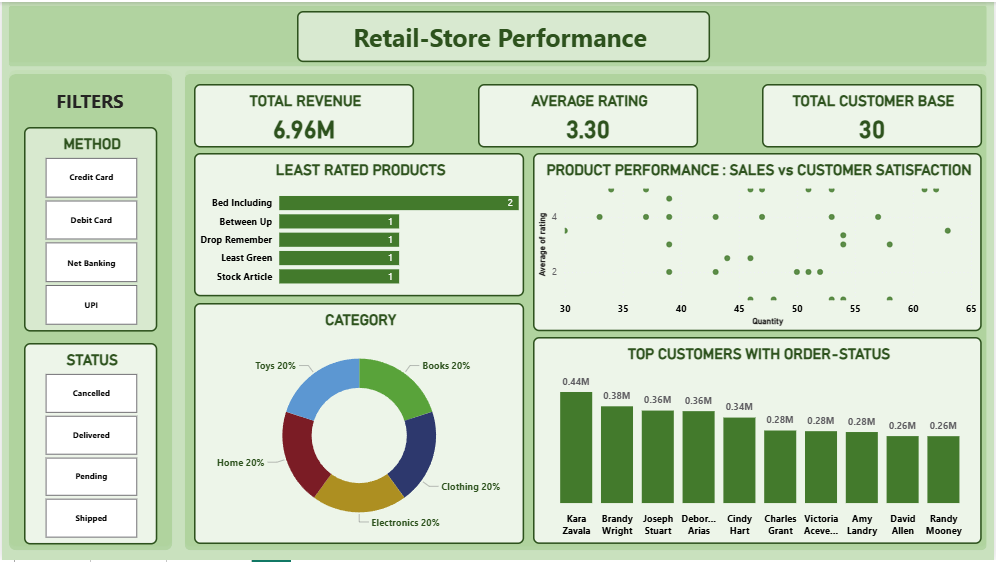

This screenshot's page, from the dashboard's own definition file:
{"tool":"powerbi","page":{"name":"Page 1","canvas":[1280,720],"ordinal":0},"visuals":[{"type":"shape","box":[3.6,0,1271.8,88.2],"z":0},{"type":"shape","box":[230.9,88.2,1044.5,624.5],"z":0,"group":"g2"},{"type":"textbox","box":[380.6,11.6,532.9,65.8],"z":1000},{"type":"shape","box":[3.6,88.2,220.9,624.5],"z":1000,"group":"g1"},{"type":"group","id":"g1","title":"Group 1","box":[3.6,88.2,220.9,624.5],"z":2000},{"type":"donutChart","title":"CATEGORY","fields":{"Category":["Products_info.category"],"Y":["Sum(Payments_info.amount_paid)"]},"box":[248.2,389.1,426.4,310.9],"z":2000,"group":"g2"},{"type":"textbox","box":[59.1,106.4,108.2,48.2],"z":3000},{"type":"slicer","title":"STATUS","fields":{"Values":["Orders_info.status"]},"box":[28.1,440,171.8,260],"z":3000,"group":"g1"},{"type":"group","id":"g2","title":"Group 2","box":[230.9,88.2,1044.5,624.5],"z":4000},{"type":"card","title":"TOTAL CUSTOMER BASE","fields":{"Values":["CountNonNull(Customers_info.customer_id)"]},"box":[980,106.4,283.6,81.8],"z":5000,"group":"g2"},{"type":"card","title":"TOTAL REVENUE","fields":{"Values":["Sum(Orders_info.total_amount)"]},"box":[248.2,106.4,283.6,81.8],"z":6000,"group":"g2"},{"type":"card","title":"AVERAGE RATING","fields":{"Values":["Avg(Product_reviews_info.rating)"]},"box":[614.1,106.4,283.6,81.8],"z":7000,"group":"g2"},{"type":"columnChart","title":"TOP CUSTOMERS WITH ORDER-STATUS","fields":{"Category":["Customers_info.name"],"Y":["Sum(Orders_info.total_amount)"]},"box":[684.5,432.7,579.1,267.3],"z":8000,"group":"g2"},{"type":"scatterChart","title":"PRODUCT PERFORMANCE : SALES vs CUSTOMER SATISFACTION","fields":{"X":["Order_Items_info.quantity"],"Y":["Avg(Product_reviews_info.rating)"],"Category":["Products_info.name"],"Size":["Sum(Orders_info.total_amount)"]},"box":[684.5,195.5,579.1,230],"z":9000,"group":"g2"},{"type":"barChart","title":"LEAST RATED PRODUCTS","fields":{"Y":["Sum(Product_reviews_info.rating)"],"Category":["Products_info.name"]},"box":[248.2,195.5,426.4,185.5],"z":10000,"group":"g2"},{"type":"slicer","title":"METHOD","fields":{"Values":["Payments_info.method"]},"box":[28.1,161.8,171.8,263.6],"z":11000,"group":"g1"}]}

Visuals, with their boxes in screenshot pixels (x1, y1, x2, y2), scaled from the page's 1280x720 canvas onto the 996x562 screenshot:
shape: [3, 0, 992, 69]
shape: [180, 69, 992, 556]
textbox: [296, 9, 711, 60]
shape: [3, 69, 175, 556]
"Group 1" group: [3, 69, 175, 556]
"CATEGORY" donutChart: [193, 304, 525, 546]
textbox: [46, 83, 130, 121]
"STATUS" slicer: [22, 343, 156, 546]
"Group 2" group: [180, 69, 992, 556]
"TOTAL CUSTOMER BASE" card: [763, 83, 983, 147]
"TOTAL REVENUE" card: [193, 83, 414, 147]
"AVERAGE RATING" card: [478, 83, 699, 147]
"TOP CUSTOMERS WITH ORDER-STATUS" columnChart: [533, 338, 983, 546]
"PRODUCT PERFORMANCE : SALES vs CUSTOMER SATISFACTION" scatterChart: [533, 153, 983, 332]
"LEAST RATED PRODUCTS" barChart: [193, 153, 525, 297]
"METHOD" slicer: [22, 126, 156, 332]
